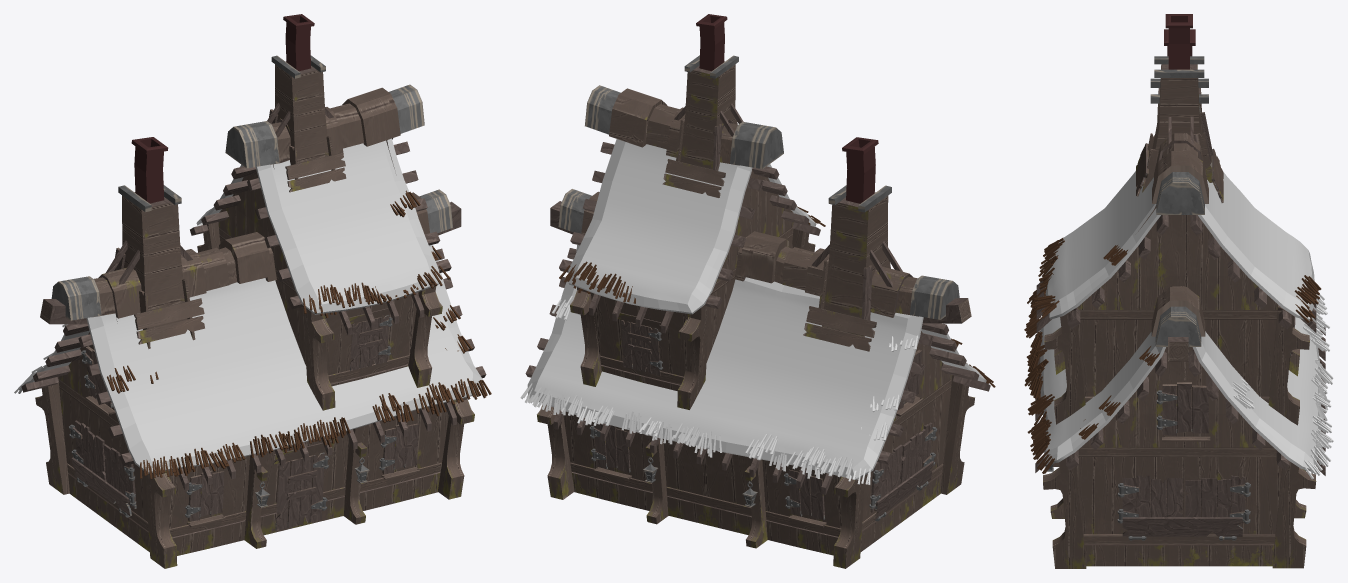
Rendered from SM_House_Huge01.fbx.
The picture shows the model from 3 angles, left to right: view 1: azimuth 30°, elevation 25°; view 2: azimuth 150°, elevation 25°; view 3: azimuth 270°, elevation 25°; orthographic projection. The views are drawn at different scales.
Parts seen in each view (by area): view 1: Object252, Object286, Box299, Object270, Object281, Box295, Object272, Box293, Box324, Box321, Box301, Object279 (+27 smaller); view 2: Object259, Object295, Box300, Object270, Box295, Object281, Object272, Box324, Box294, Box322, Object279, Object283 (+25 smaller); view 3: Object271, Object282, Object278, Object295, Object286, Object259, Object252, Box324, Object281, Box305, Object273, Object276 (+15 smaller).
Part boxes in pixels (x1,y1,x2,y2): Object252: (86, 244, 482, 473); Object286: (256, 138, 439, 314); Box299: (167, 403, 448, 555); Object270: (51, 189, 452, 320); Object281: (225, 84, 424, 168); Box295: (105, 185, 195, 348); Object272: (58, 316, 149, 552); Box293: (140, 378, 491, 479); Box324: (267, 55, 335, 179); Box321: (325, 292, 418, 386); Box301: (273, 440, 331, 530); Object279: (69, 420, 136, 517); Object259: (527, 245, 923, 480); Object295: (568, 139, 752, 314); Box300: (563, 411, 842, 555); Object270: (558, 189, 959, 319); Box295: (812, 185, 902, 336); Object281: (585, 85, 783, 169); Object272: (860, 331, 952, 551); Box324: (674, 55, 743, 170); Box294: (520, 383, 870, 484); Box322: (585, 290, 691, 391); Object279: (869, 422, 937, 521); Object283: (706, 169, 793, 362); Object271: (1076, 341, 1281, 566); Object282: (1077, 205, 1277, 402); Object278: (1117, 475, 1250, 540); Object295: (1198, 163, 1314, 320); Object286: (1045, 171, 1160, 319); Object259: (1192, 312, 1320, 471); Object252: (1040, 317, 1165, 464); Box324: (1142, 56, 1213, 192); Object281: (1152, 105, 1208, 214); Box305: (1156, 382, 1210, 441); Object273: (1043, 458, 1086, 568); Object276: (1272, 461, 1316, 568).
Size of the model in its own units: 931 by 998 by 564.
